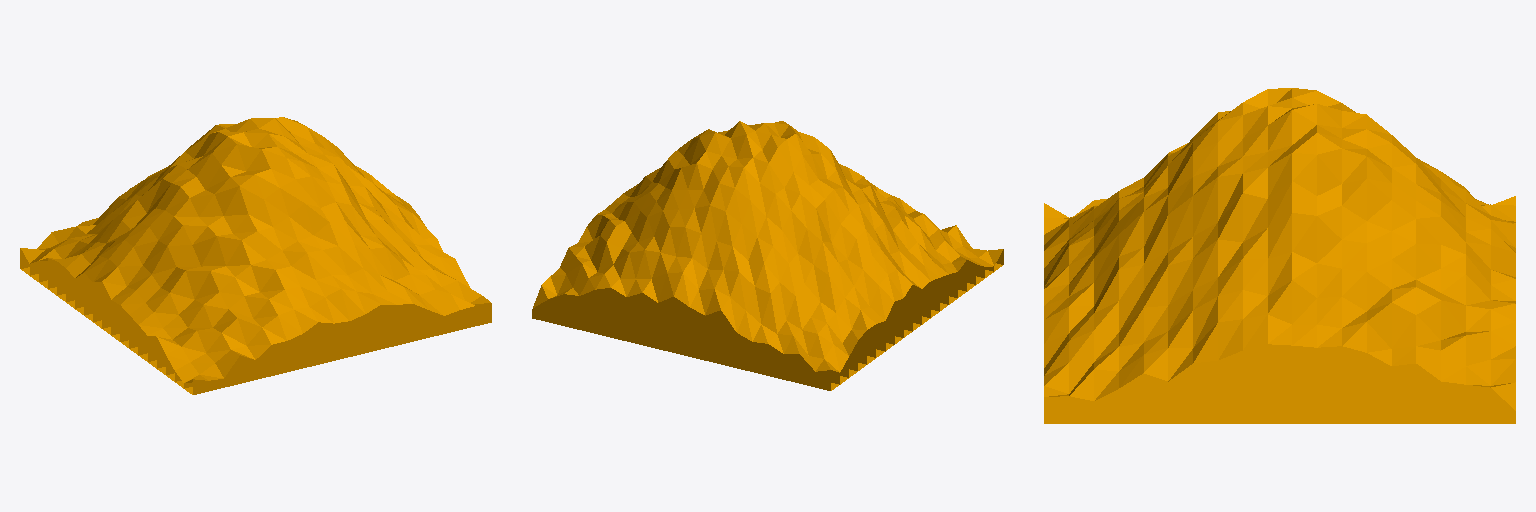
URDF robot description (rocky_mountain):
<?xml version="1.0"?>
<robot name="rocky_mountain">
  <link name="baseLink">
    <inertial>
      <origin xyz="0 0 0" rpy="0 0 0"/>
      <mass value="1"/>
      <inertia ixx="1" ixy="0" ixz="0" iyy="1" iyz="0" izz="1"/>
    </inertial>
    <visual>
      <origin xyz="0 0 0" rpy="0 0 0"/>
      <geometry>
        <mesh filename="rocky_mountain.obj" scale="1 1 1"/>
      </geometry>
    </visual>
    <collision>
      <origin xyz="0 0 0" rpy="0 0 0"/>
      <geometry>
        <mesh filename="rocky_mountain.obj" scale="1 1 1"/>
      </geometry>
    </collision>
  </link>
</robot>

--- What the picture shows (computed from the rendered views, not written in the file) ---
Views: 3 orthographic renders of the robot side by side, from view 1: azimuth 30°, elevation 25°; view 2: azimuth 150°, elevation 25°; view 3: azimuth 270°, elevation 25°.
Robot: rocky_mountain — 1 links, 0 joints (none); root link baseLink; default pose: every joint at zero.
Links seen in each view (by area): view 1: baseLink; view 2: baseLink; view 3: baseLink.
Link boxes in pixels (left/top/right/bottom): baseLink: left=20, top=117, right=491, bottom=394; baseLink: left=532, top=121, right=1003, bottom=390; baseLink: left=1044, top=88, right=1515, bottom=423.
Size in the robot's own frame: 9.5 by 9.5 by 5.13 metres.
Meshes: 1 distinct files referenced, 1 mesh visuals loaded (1 OBJ).
